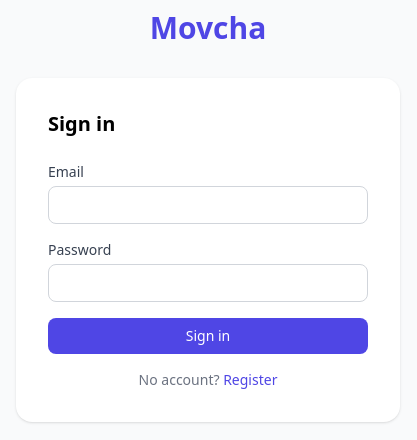
Test case: Login page › disables button while submitting
Type "a@test.com" into the field labelled "Email".
click(208, 205); type("a@test.com")  # box [48,186,368,224]
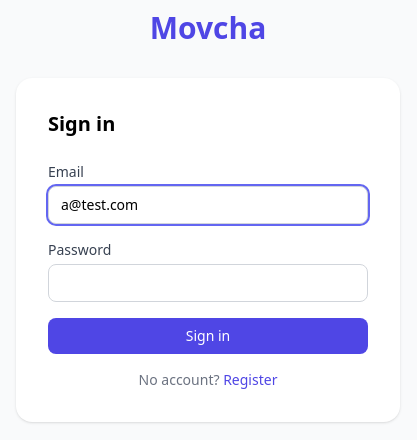
Type "pass123" into the password field labelled "Password".
click(208, 283); type("pass123")  # box [48,264,368,302]
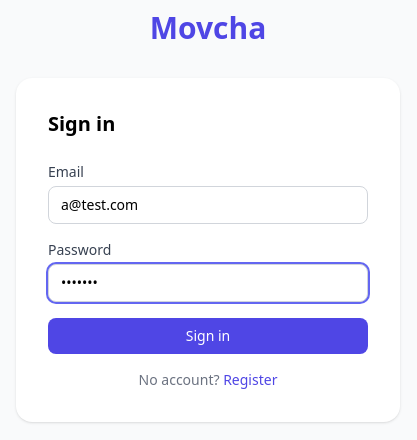
Click the button "Sign in".
click(208, 336)  # box [48,318,368,354]
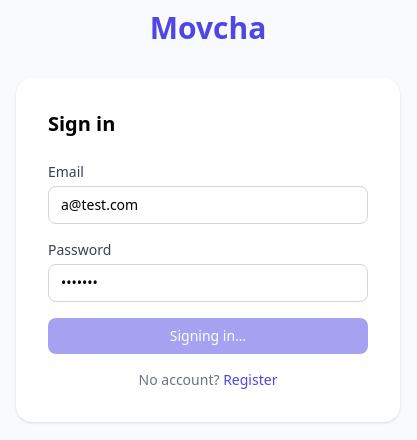
Check: the button "Signing in…" is disabled, box [48,318,368,354]
